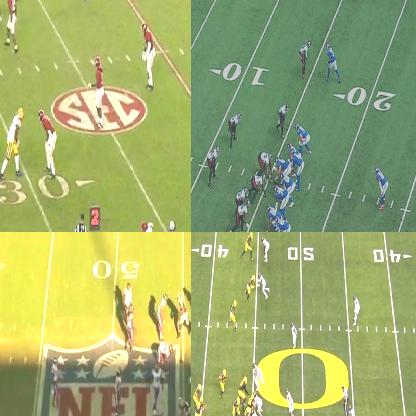CENTER: (274, 157, 287, 182), (176, 396, 190, 415)
DB: (38, 108, 56, 175), (140, 24, 157, 94), (50, 358, 61, 400), (299, 40, 310, 80), (258, 273, 270, 299), (261, 238, 271, 261), (289, 322, 297, 347), (124, 282, 132, 302), (354, 294, 359, 322), (348, 404, 357, 415)
LB: (88, 55, 108, 128), (232, 199, 252, 231), (7, 0, 18, 51), (206, 144, 219, 183), (275, 102, 290, 134), (228, 111, 242, 140), (114, 370, 123, 415), (125, 305, 134, 347), (252, 362, 263, 390), (158, 292, 166, 330), (286, 389, 296, 415)
QB: (290, 149, 304, 183), (196, 398, 205, 415)
SKILL: (1, 105, 24, 176), (327, 43, 342, 82), (375, 166, 388, 210), (177, 292, 188, 338), (298, 124, 310, 151), (267, 205, 279, 231), (244, 232, 254, 258), (276, 213, 290, 231), (218, 368, 227, 394), (229, 300, 237, 328), (248, 274, 255, 298), (195, 384, 202, 402)
